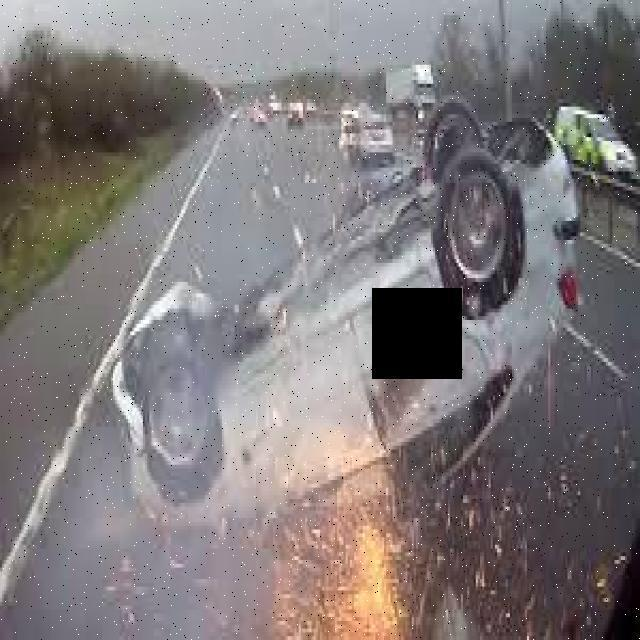Fire: (292, 490, 422, 640)
